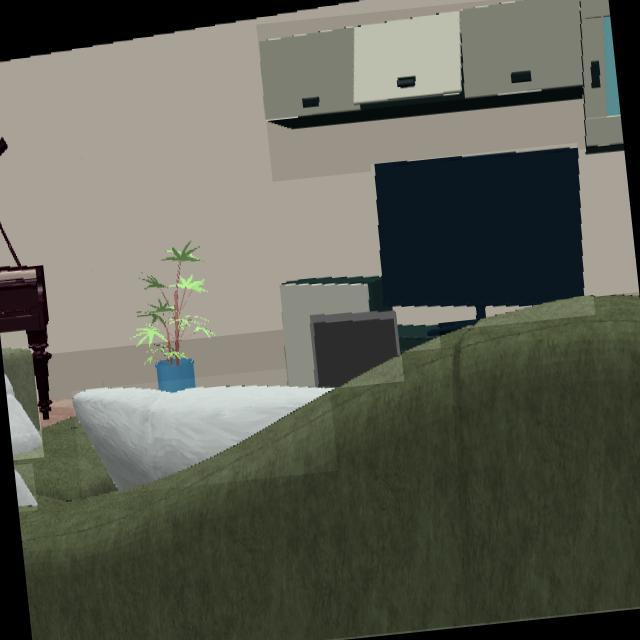cabinet: (258, 0, 623, 146), (279, 276, 390, 388), (398, 325, 439, 352)
laptop: (309, 311, 401, 389)
monitor: (375, 148, 586, 329)
pillow: (73, 386, 329, 493), (4, 371, 42, 459), (14, 466, 36, 509)
sofa: (12, 296, 640, 640), (1, 348, 39, 431)
